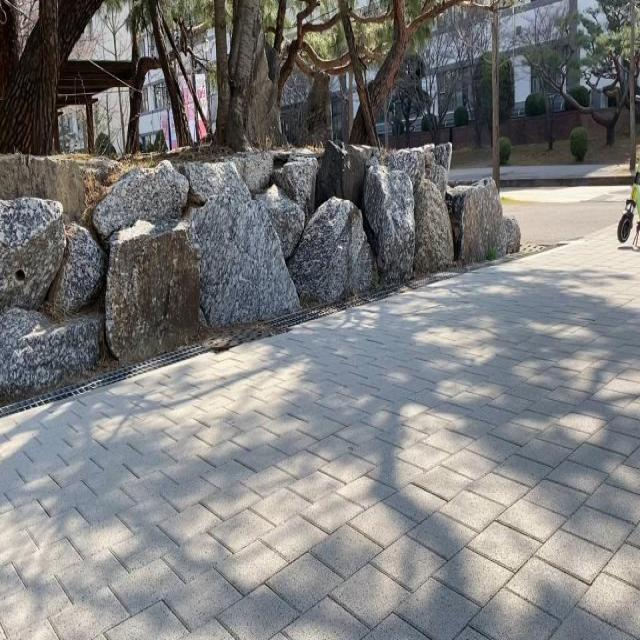sidewalk: (0, 226, 640, 640), (504, 200, 625, 242)
